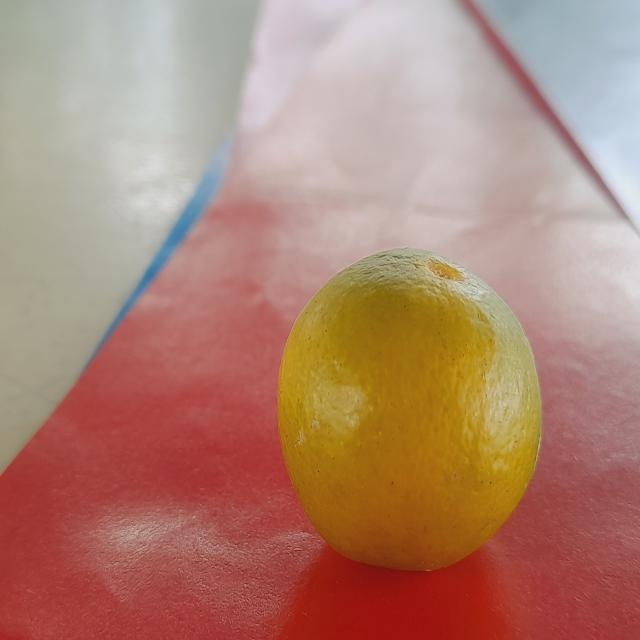greening: (282, 237, 547, 565)
